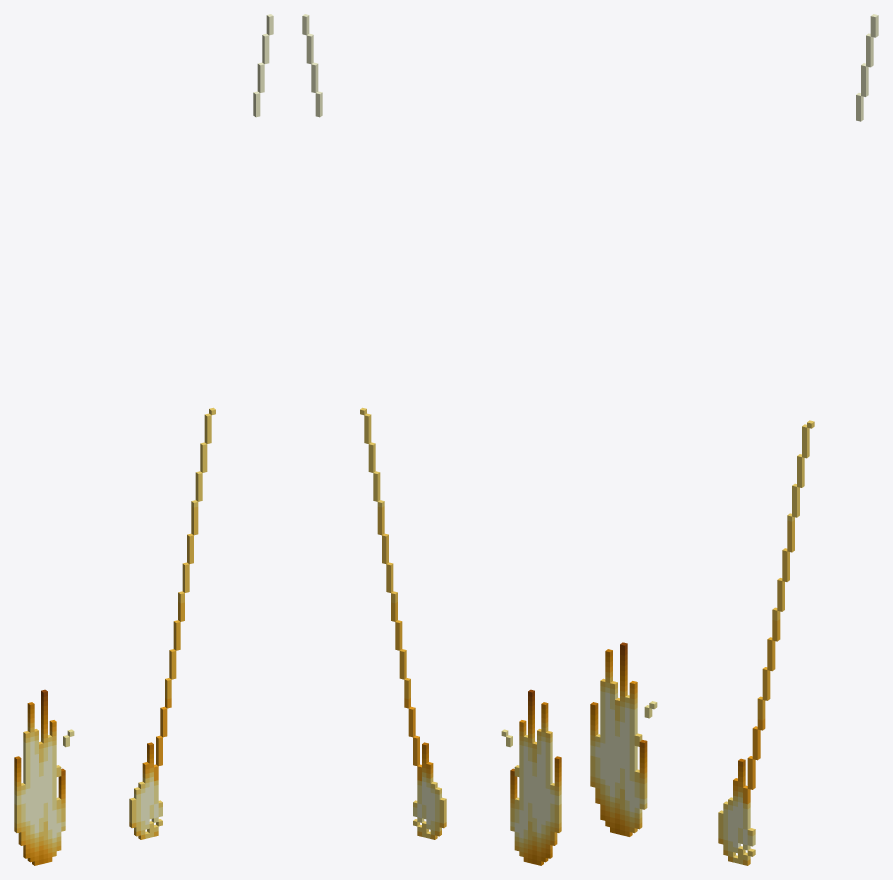
Rendered from Fight_745_2_04_fx.obj.
The picture shows the model from 3 angles, left to right: view 1: azimuth 30°, elevation 25°; view 2: azimuth 150°, elevation 25°; view 3: azimuth 330°, elevation 25°; orthographic projection. The views are drawn at different scales.
Size of the model in its own units: 5.8 by 17.1 by 0.1.
